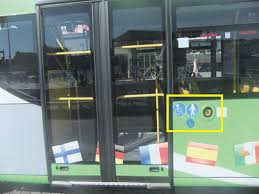out: (27, 1, 194, 187)
